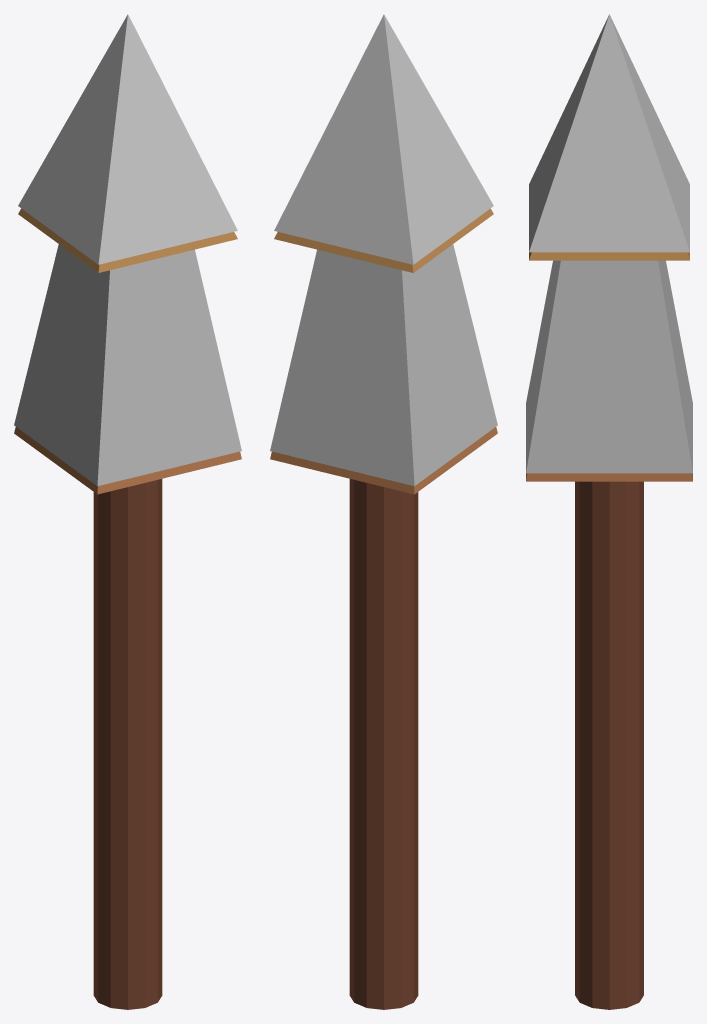
The model's file is Tree_16_winter_gradient_yellow_vc.fbx.
The picture shows the model from 3 angles, left to right: view 1: azimuth 30°, elevation 25°; view 2: azimuth 150°, elevation 25°; view 3: azimuth 270°, elevation 25°; orthographic projection.
Parts seen in each view (by area): view 1: Tree_16_winter_gradient_yellow_vc; view 2: Tree_16_winter_gradient_yellow_vc; view 3: Tree_16_winter_gradient_yellow_vc.
Part boxes in pixels (box(x1,y1,x2,y2)): Tree_16_winter_gradient_yellow_vc: box(14, 14, 241, 1009); Tree_16_winter_gradient_yellow_vc: box(270, 14, 497, 1009); Tree_16_winter_gradient_yellow_vc: box(526, 14, 692, 1009).
Bounding box in the file's own units: 53.67 × 348 × 53.67.
